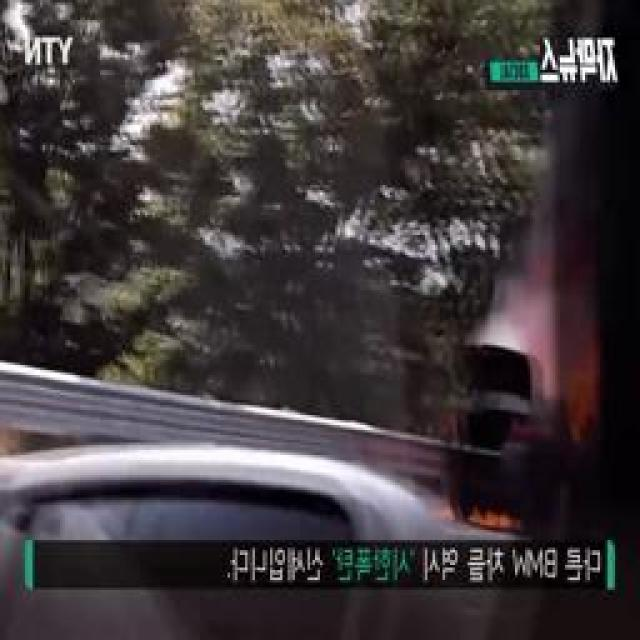Fire: (560, 319, 600, 447)
